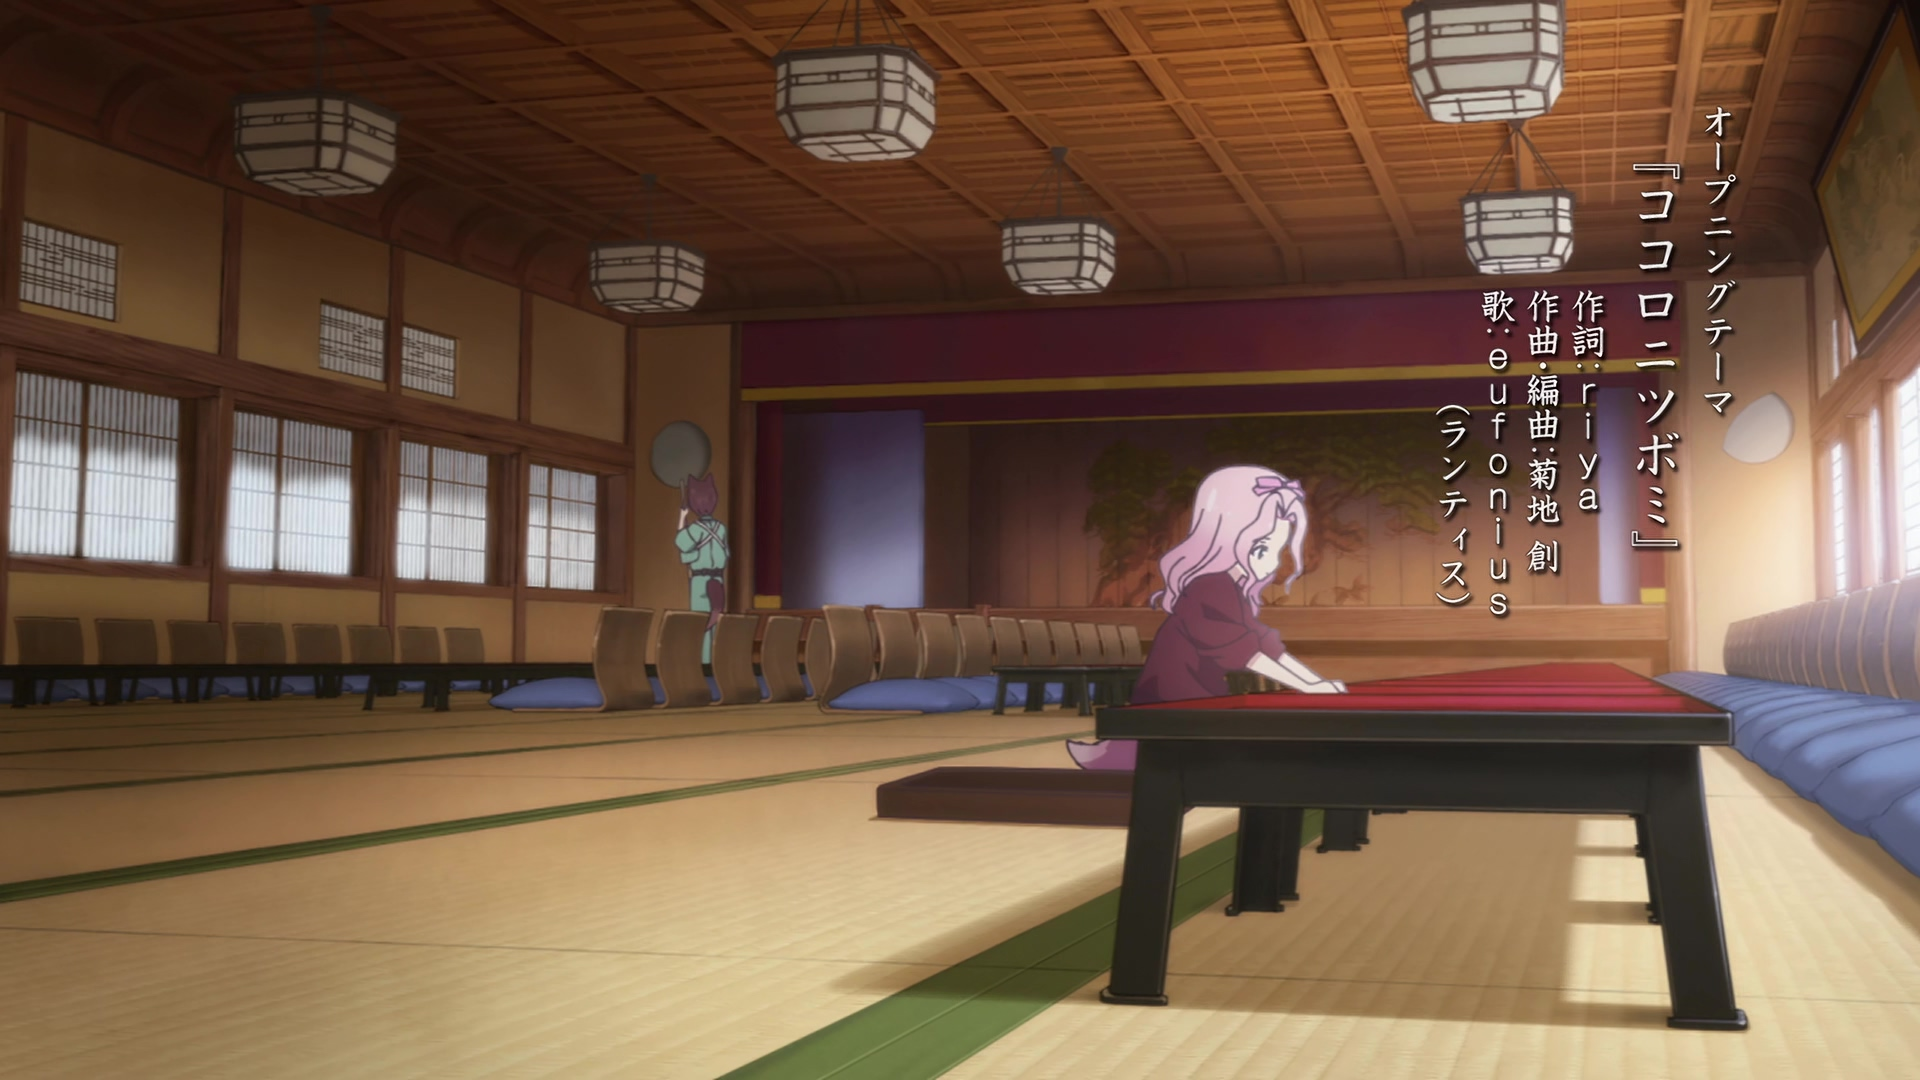枣: (675, 469, 727, 669)
莲: (1064, 465, 1345, 767)
